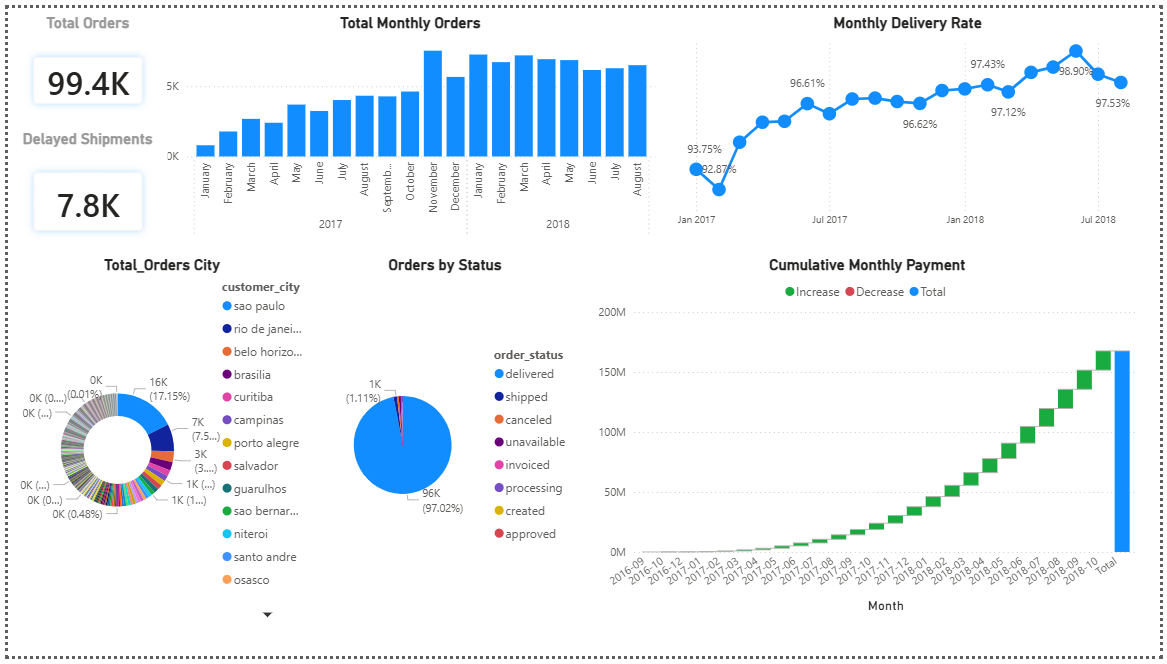

The page's visual inventory and layout, read from the dashboard file:
{"tool":"powerbi","page":{"name":"Page 1","canvas":[1280,720],"ordinal":0},"visuals":[{"type":"cardVisual","title":"Total Orders","fields":{"Data":["Sum(Total_Orders.Orders_Count)"]},"box":[0,7.2,177.6,127.5],"z":0},{"type":"clusteredColumnChart","title":"Total Monthly Orders","fields":{"Category":["Monthly_Orders.Month.Variation.Date Hierarchy.Year","Monthly_Orders.Month.Variation.Date Hierarchy.Month"],"Y":["Sum(Monthly_Orders.Total_Orders)"]},"box":[170.5,7.2,554.3,255],"z":1000},{"type":"donutChart","title":"Total_Orders City","fields":{"Category":["Top_Order_Cities.customer_city"],"Y":["Sum(Top_Order_Cities.Total_Orders)"]},"box":[0,274.7,342.6,412.1],"z":2000},{"type":"cardVisual","title":"Delayed Shipments","fields":{"Data":["Sum(Late_Shipment_Count.Late_Shipment_Count)"]},"box":[0,134.8,177.2,140.8],"z":3000},{"type":"pieChart","title":"Orders by Status","fields":{"Category":["Orders_Status_Breakup.order_status"],"Y":["Sum(Orders_Status_Breakup.Total_Orders)"]},"box":[332.3,275,308,401.1],"z":4000},{"type":"waterfallChart","title":"Cumulative Monthly Payment","fields":{"Y":["Sum(Monthly_Commulative_Payment.Cumulative_Payment)"],"Category":["Monthly_Commulative_Payment.Month"]},"box":[650.5,274.7,609.5,401.1],"z":5000},{"type":"lineChart","title":"Monthly Delivery Rate","fields":{"Category":["Monthly_Delivery_Ratio.order_month.Variation.Date Hierarchy.Year","Monthly_Delivery_Ratio.order_month.Variation.Date Hierarchy.Quarter","Monthly_Delivery_Ratio.order_month.Variation.Date Hierarchy.Month","Monthly_Delivery_Ratio.order_month.Variation.Date Hierarchy.Day"],"Y":["Sum(Monthly_Delivery_Ratio.order_delivery_ratio)"]},"box":[737.7,7.2,522.8,244.9],"z":6000}]}

Visuals, with their boxes in screenshot pixels (x1, y1, x2, y2), scaled from the page's 1280x720 canvas onto the 1167x664 screenshot:
"Total Orders" cardVisual: bbox=(0, 7, 162, 124)
"Total Monthly Orders" clusteredColumnChart: bbox=(155, 7, 661, 242)
"Total_Orders City" donutChart: bbox=(0, 253, 312, 633)
"Delayed Shipments" cardVisual: bbox=(0, 124, 162, 254)
"Orders by Status" pieChart: bbox=(303, 254, 584, 624)
"Cumulative Monthly Payment" waterfallChart: bbox=(593, 253, 1149, 623)
"Monthly Delivery Rate" lineChart: bbox=(673, 7, 1149, 232)
